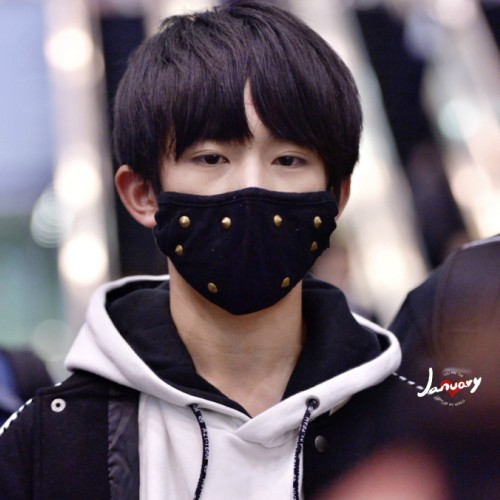face_mask: (161, 76, 330, 312)
